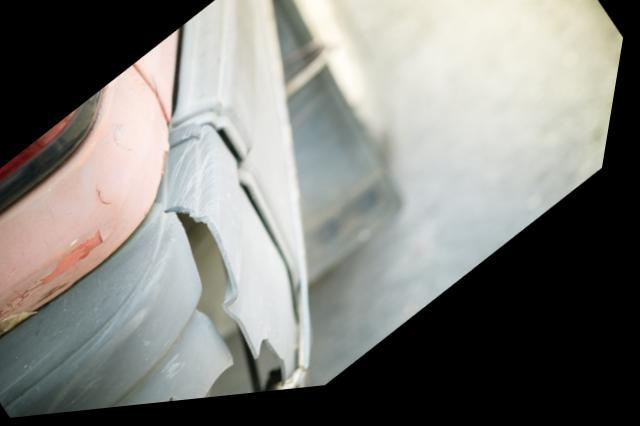crack: (173, 211, 301, 404)
